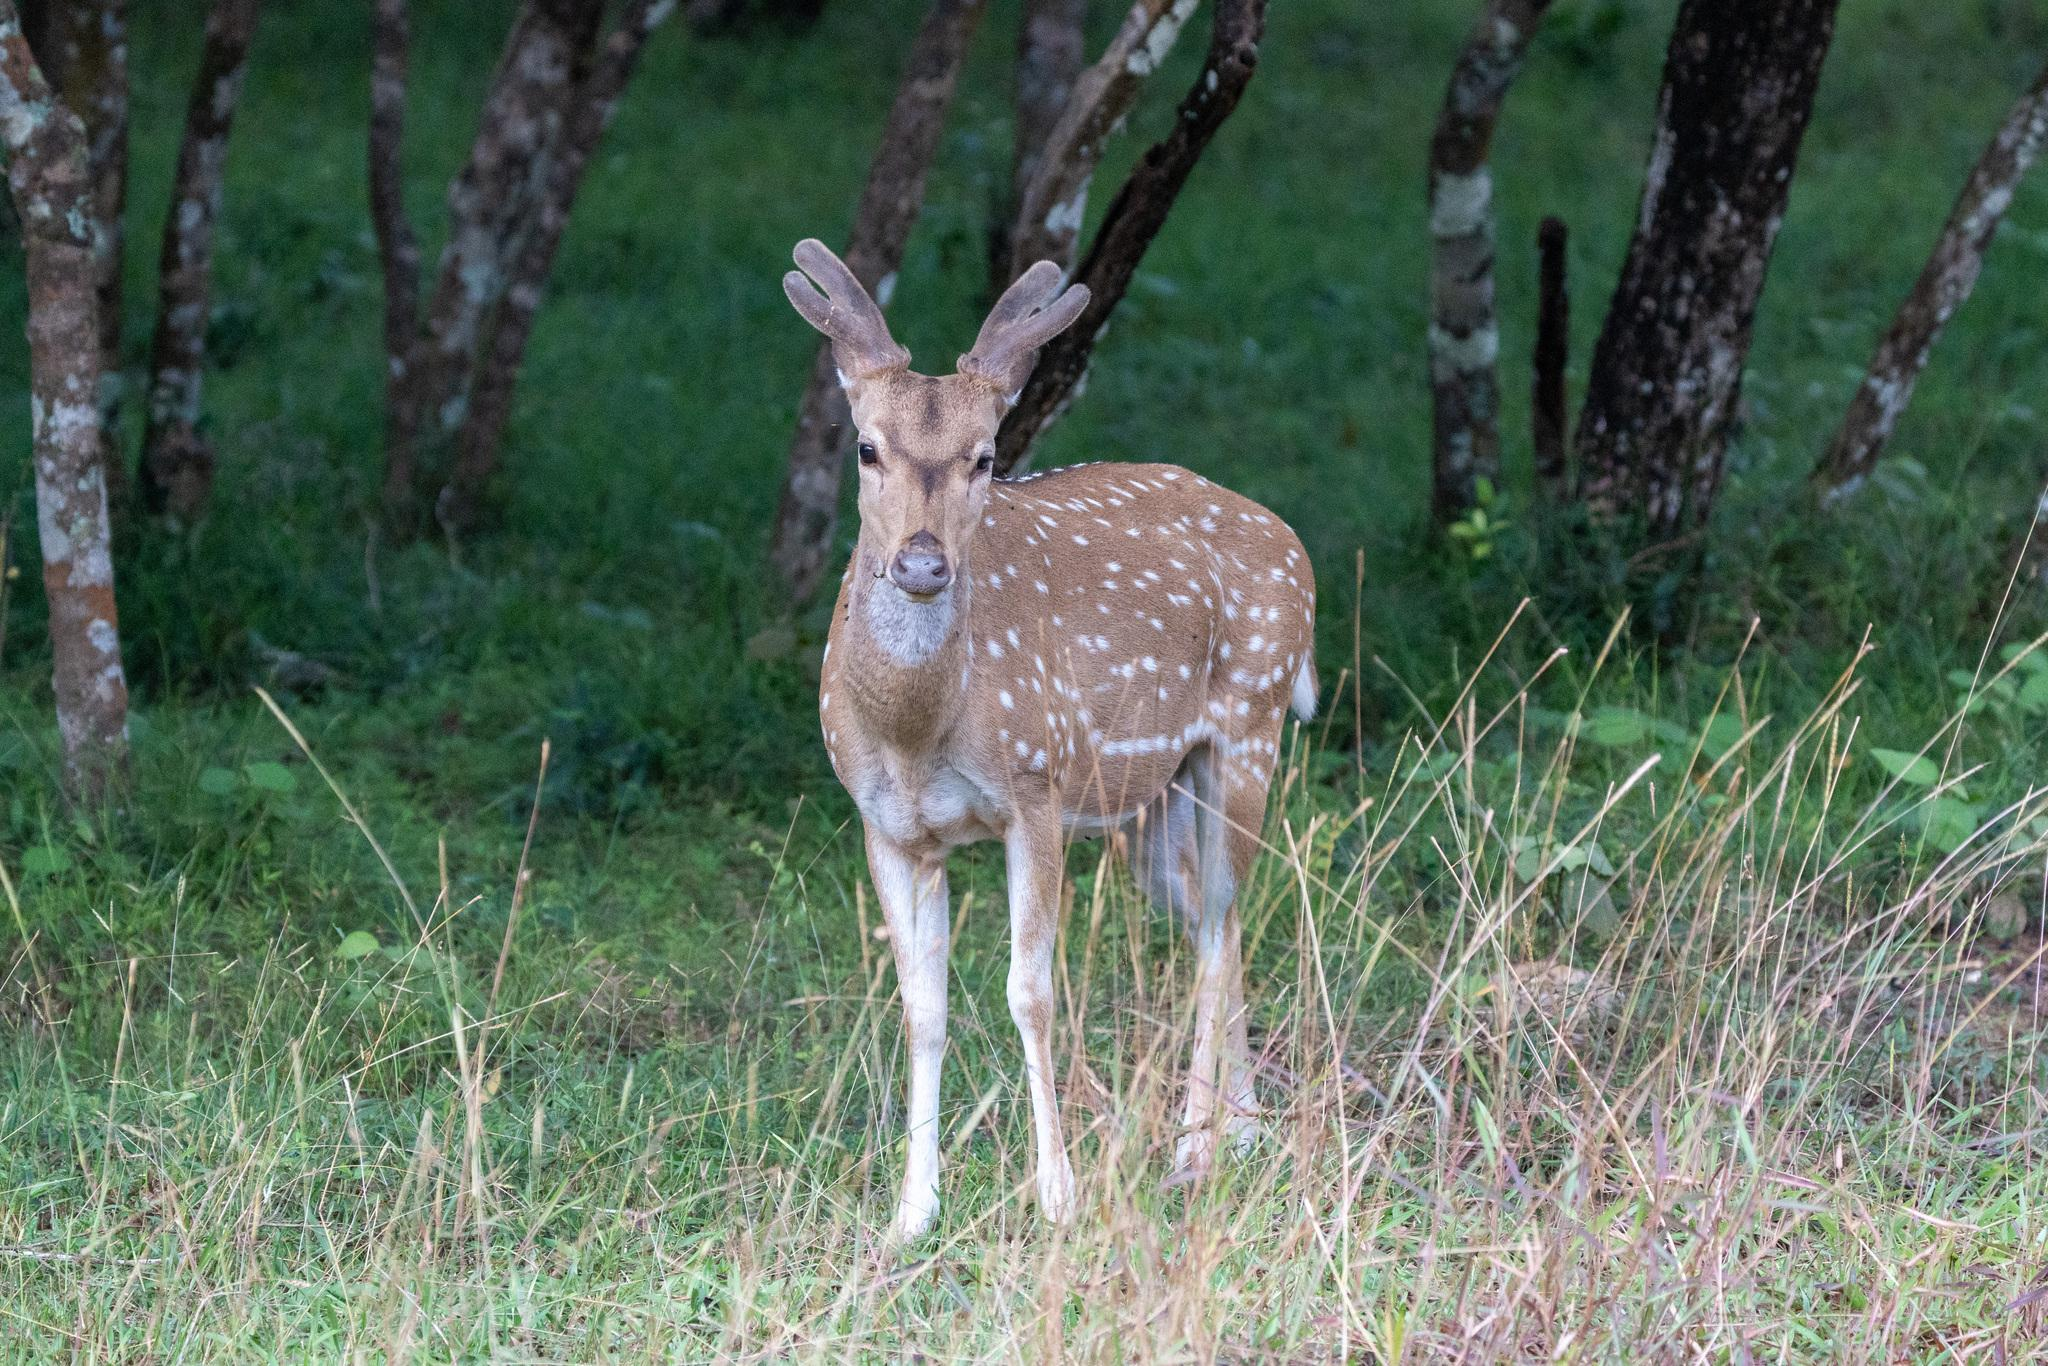Deer: (782, 239, 1314, 1239)
